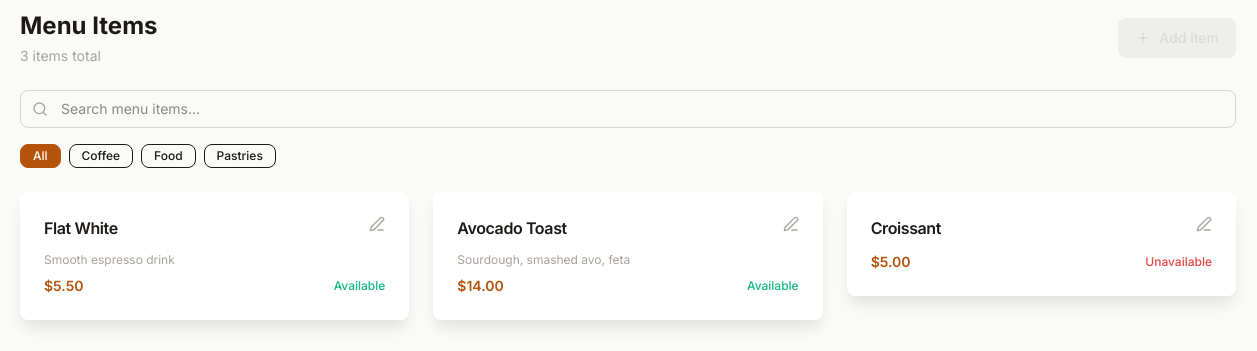
Test case: MenuItemsGrid › filters items by search
In the field with placeholder "Search menu items...": coordinates (628, 109) [20,90,1236,128], type "flat"
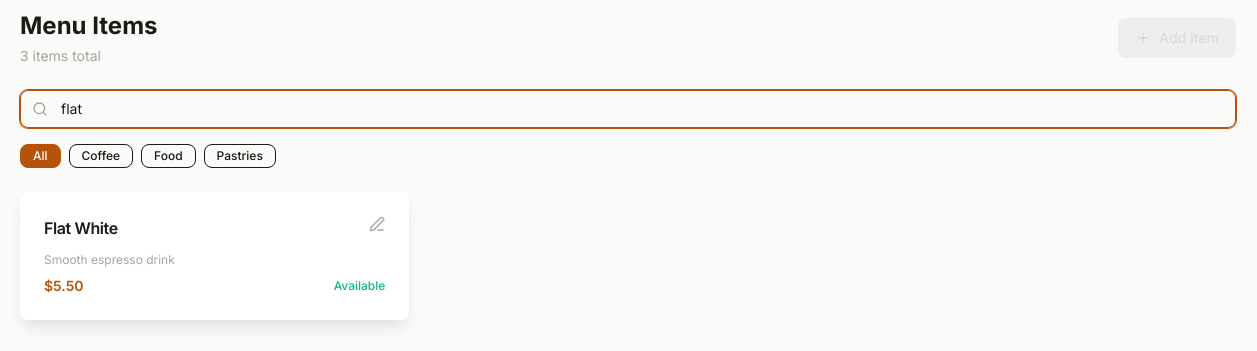
Expected: the heading "Flat White" is shown, [44,216,118,240]
Result: the link "Avocado Toast" is gone
Result: the link "Croissant" is gone
